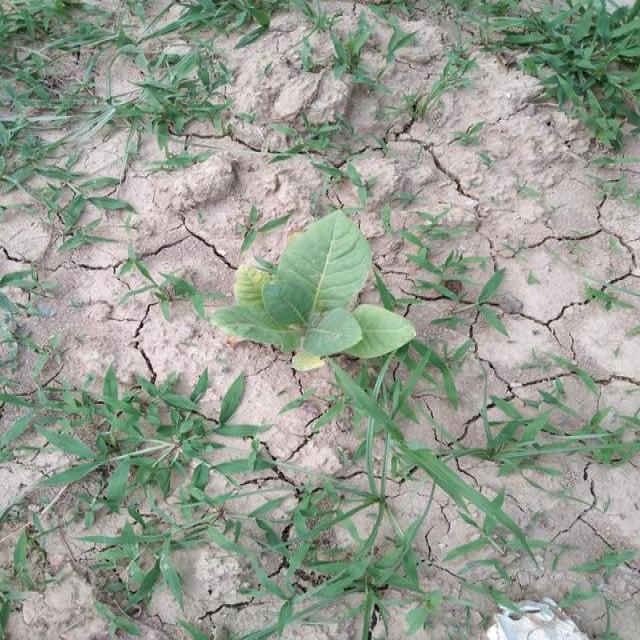crop: (212, 203, 427, 369)
